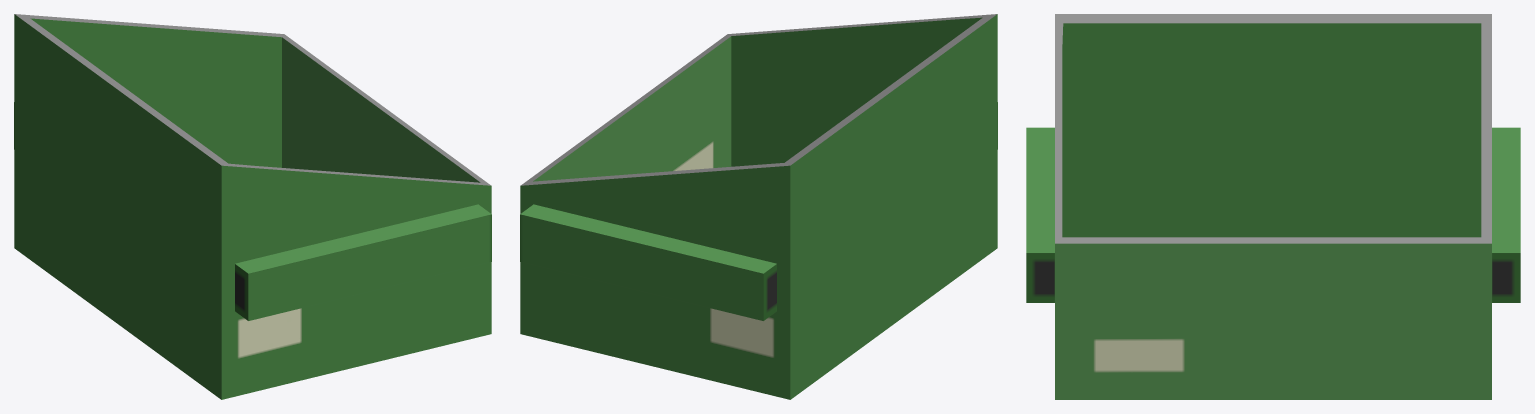
File: dumpster.fbx
3 renders of one model, left to right at view 1: azimuth 30°, elevation 25°; view 2: azimuth 150°, elevation 25°; view 3: azimuth 270°, elevation 25°, orthographic. The views are drawn at different scales.
Parts seen in each view (by area): view 1: dumpster_mesh; view 2: dumpster_mesh; view 3: dumpster_mesh.
Boxes of the visible parts, box(x1,y1,x2,y2) form: dumpster_mesh: box(14, 14, 491, 399); dumpster_mesh: box(520, 14, 997, 399); dumpster_mesh: box(1026, 14, 1520, 399).
Bounding box in the file's own units: 2.19 × 1.81 × 3.29.
2 materials, 1 textured.
